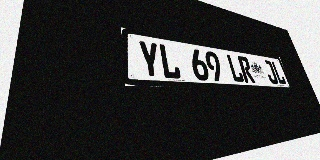6: (189, 48, 210, 81)
9: (204, 50, 224, 82)
J: (262, 60, 279, 84)
L: (158, 43, 182, 80), (226, 54, 245, 83), (271, 61, 287, 85)
R: (237, 56, 256, 83)
Y: (137, 40, 162, 79)
